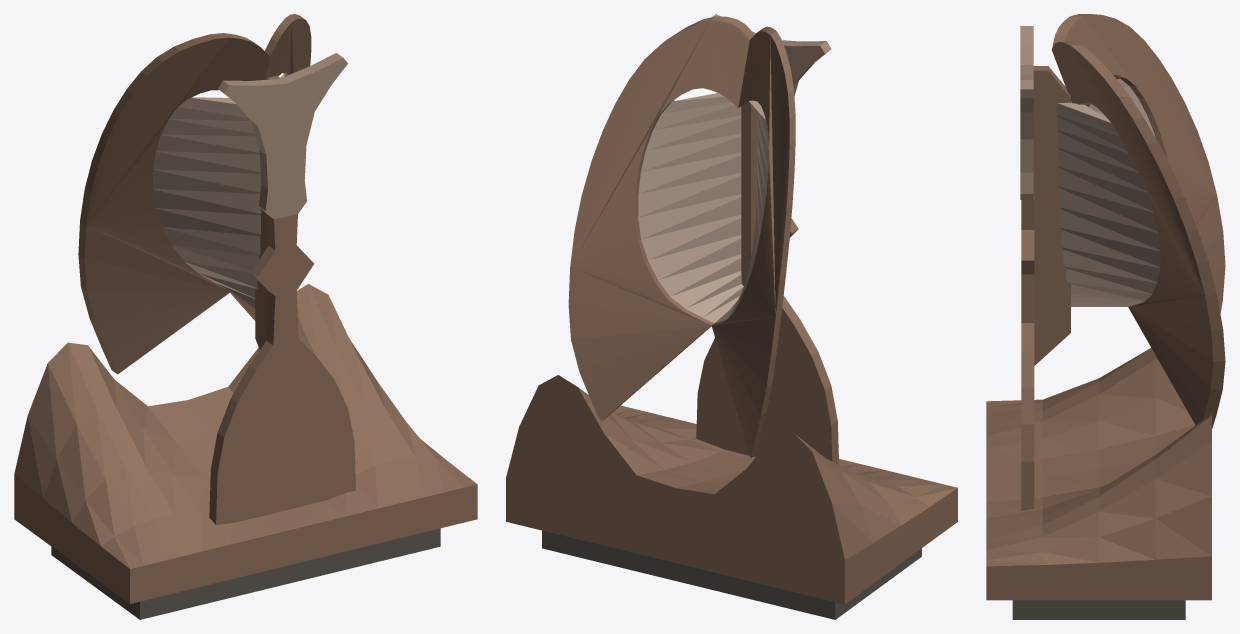
Rendered from chi-picasso.glb.
The picture shows the model from 3 angles, left to right: view 1: azimuth 30°, elevation 25°; view 2: azimuth 150°, elevation 25°; view 3: azimuth 270°, elevation 25°; orthographic projection. The views are drawn at different scales.
Visible parts, largest first — view 1: Chicago Picasso; view 2: Chicago Picasso; view 3: Chicago Picasso.
Boxes of the visible parts, x1,y1,x2,y2 form: Chicago Picasso: [14, 14, 477, 619]; Chicago Picasso: [506, 14, 957, 619]; Chicago Picasso: [986, 14, 1225, 619].
Bounding box in the file's own units: 10.4 × 15.2 × 6.36.
